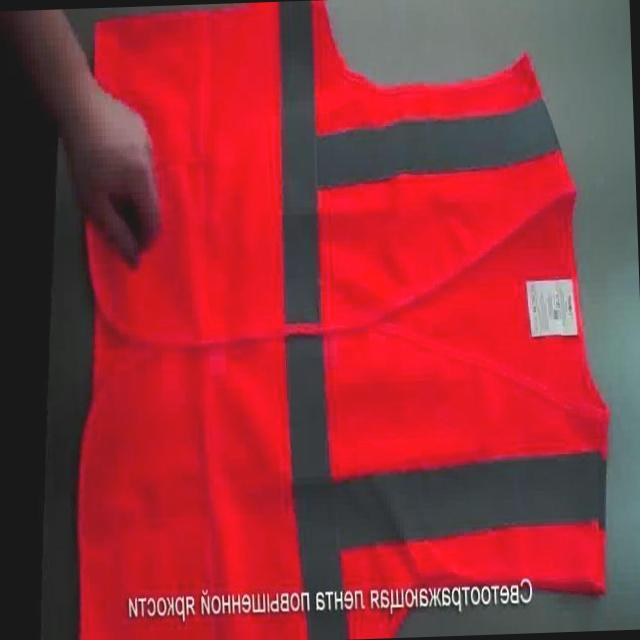vest: (57, 0, 618, 640)
